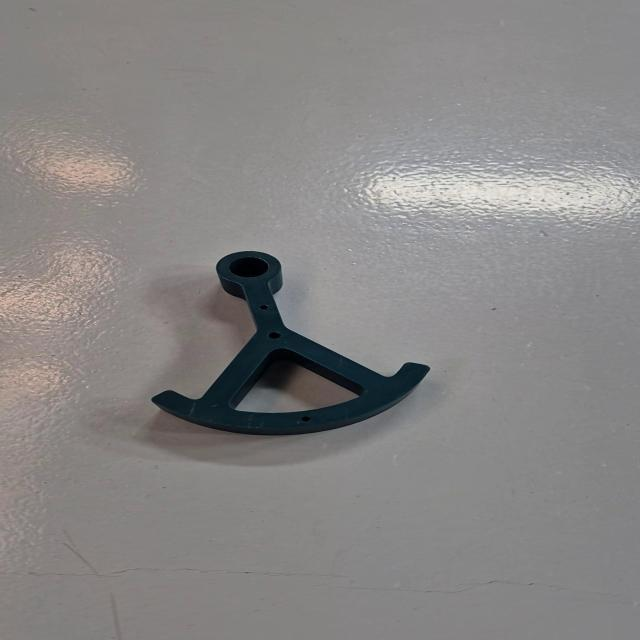haptic: (149, 249, 433, 436)
